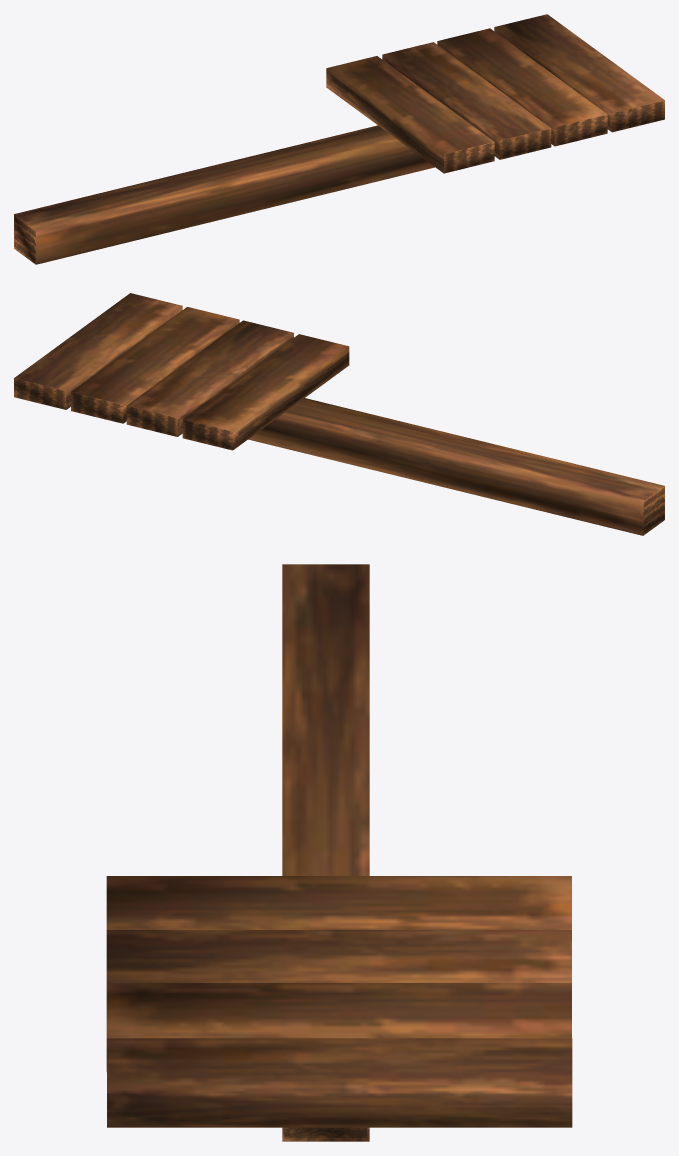
Rendered from INST_SWORDLIGHT_FIREPLATB.fbx.
3 renders of one model, top to bottom at view 1: azimuth 30°, elevation 25°; view 2: azimuth 150°, elevation 25°; view 3: azimuth 270°, elevation 25°, orthographic. The views are drawn at different scales.
Visible parts, largest first — view 1: INST_SWORDLIGHT_FIREPLATB; view 2: INST_SWORDLIGHT_FIREPLATB; view 3: INST_SWORDLIGHT_FIREPLATB.
Boxes of the visible parts, x1=… form: INST_SWORDLIGHT_FIREPLATB: x1=14, y1=14, x2=664, y2=264; INST_SWORDLIGHT_FIREPLATB: x1=14, y1=293, x2=664, y2=535; INST_SWORDLIGHT_FIREPLATB: x1=106, y1=564, x2=572, y2=1141.
Bounding box in the file's own units: 31006 × 2758 × 10813.
1 material, 1 textured.
